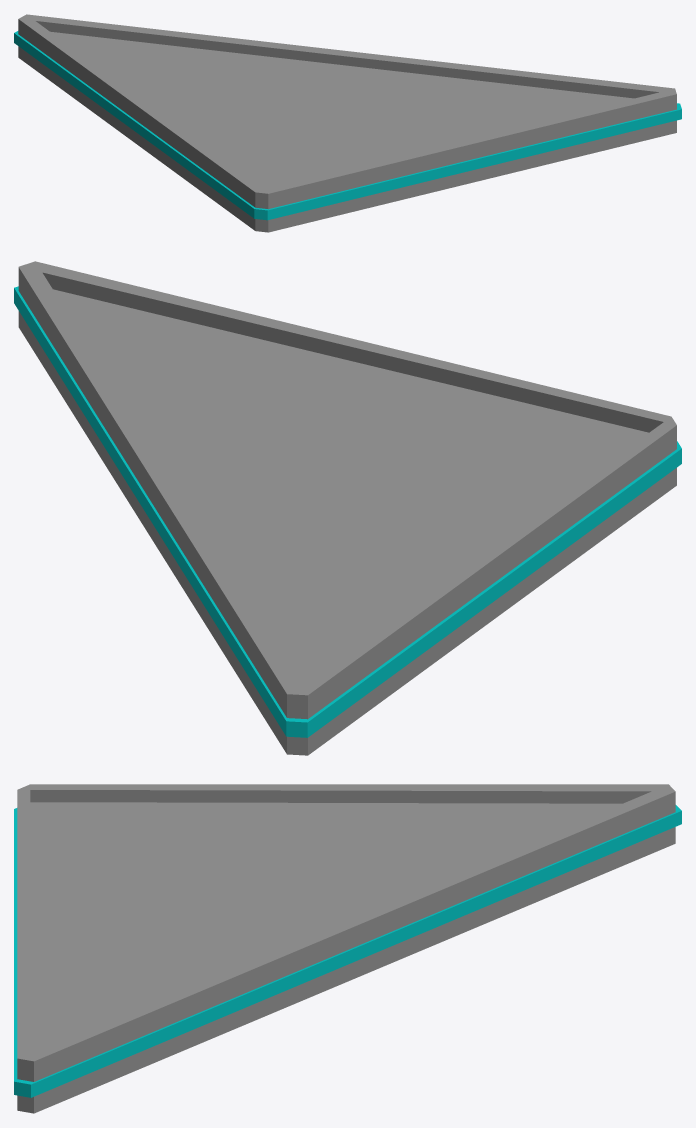
File: MSH_PlataformaTriangulo.FBX
3 renders of one model, top to bottom at view 1: azimuth 30°, elevation 25°; view 2: azimuth 150°, elevation 25°; view 3: azimuth 270°, elevation 25°, orthographic. The views are drawn at different scales.
Visible parts, largest first — view 1: P-trianguloBorde, P-trianguloCentro, P-trianguloNeon; view 2: P-trianguloBorde, P-trianguloCentro, P-trianguloNeon; view 3: P-trianguloBorde, P-trianguloCentro, P-trianguloNeon.
Boxes of the visible parts, x1,y1,x2,y2 form: P-trianguloBorde: (18, 14, 676, 232); P-trianguloCentro: (81, 42, 607, 185); P-trianguloNeon: (14, 31, 681, 220); P-trianguloBorde: (18, 261, 676, 755); P-trianguloCentro: (86, 315, 610, 662); P-trianguloNeon: (14, 286, 681, 737); P-trianguloBorde: (17, 784, 675, 1113); P-trianguloCentro: (62, 816, 586, 1036); P-trianguloNeon: (14, 805, 681, 1097).
Size of the model in its own units: 887 by 76.86 by 891.
